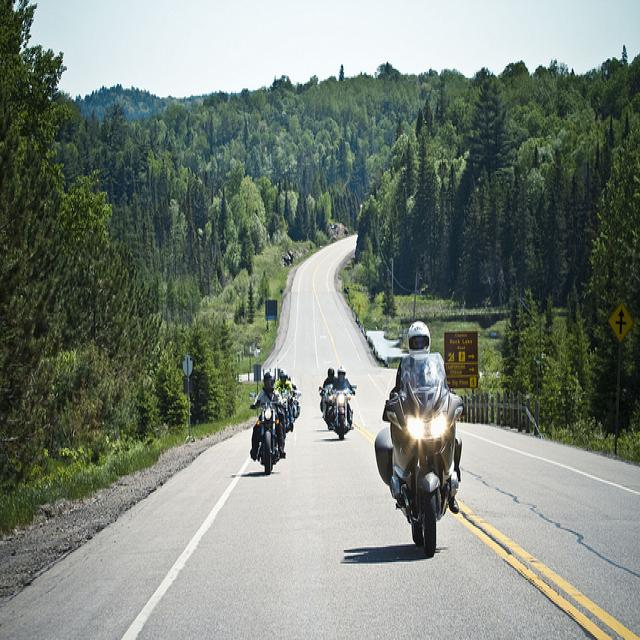motor: (385, 349, 458, 557), (256, 403, 280, 474), (330, 390, 355, 439), (322, 383, 334, 432), (282, 390, 290, 433), (290, 392, 301, 418), (287, 391, 292, 399)
